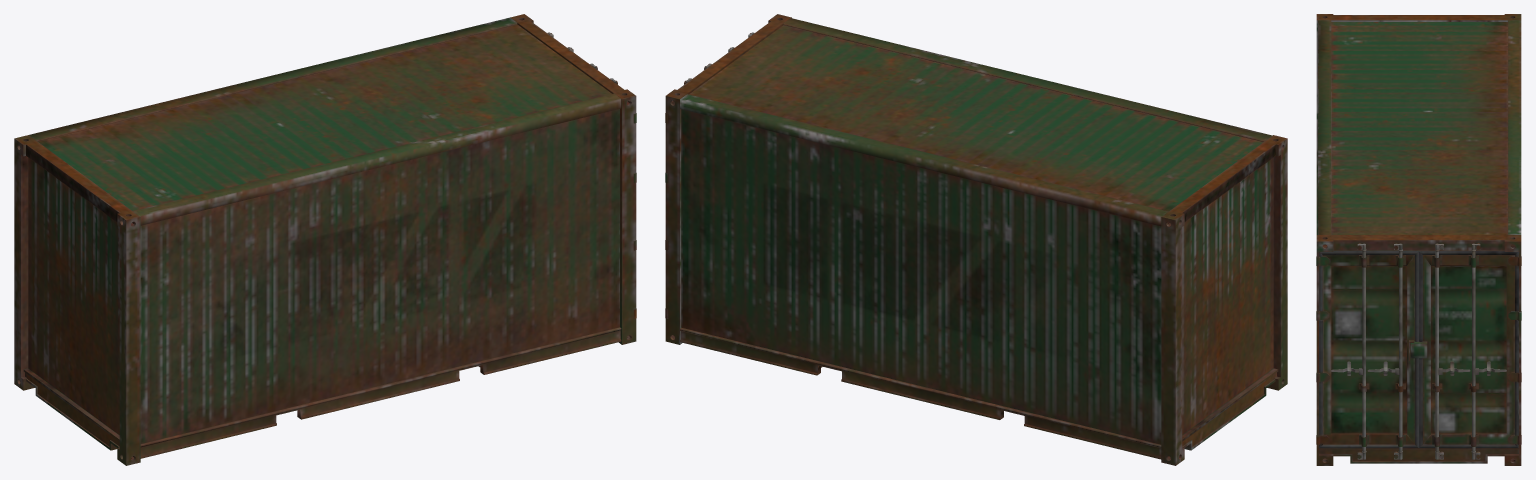
The model's file is container_20_red.glb.
3 renders of one model, left to right at view 1: azimuth 30°, elevation 25°; view 2: azimuth 150°, elevation 25°; view 3: azimuth 270°, elevation 25°, orthographic. The views are drawn at different scales.
Parts seen in each view (by area): view 1: container_20_red; view 2: container_20_red; view 3: container_20_red.
Boxes of the visible parts, x1=… form: container_20_red: x1=14, y1=14, x2=636, y2=465; container_20_red: x1=665, y1=14, x2=1287, y2=465; container_20_red: x1=1316, y1=14, x2=1521, y2=465.
Bounding box in the file's own units: 6.06 × 2.77 × 2.29.
Materials: 1 (1 with a texture image).
